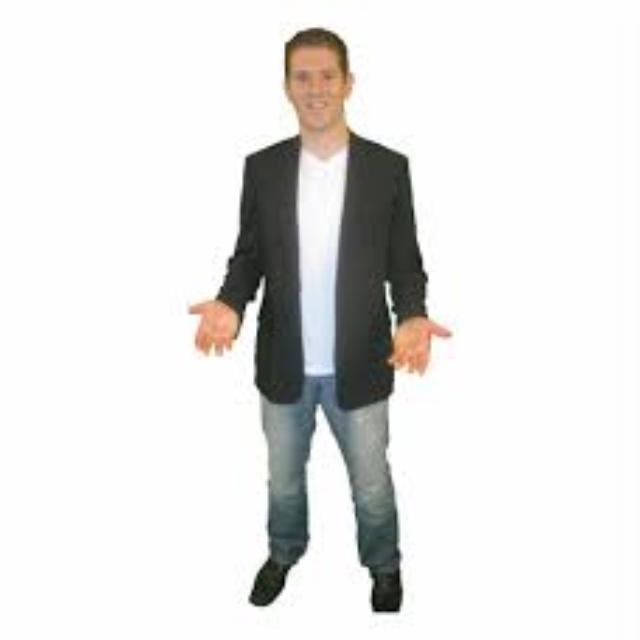person: (165, 21, 462, 640)
